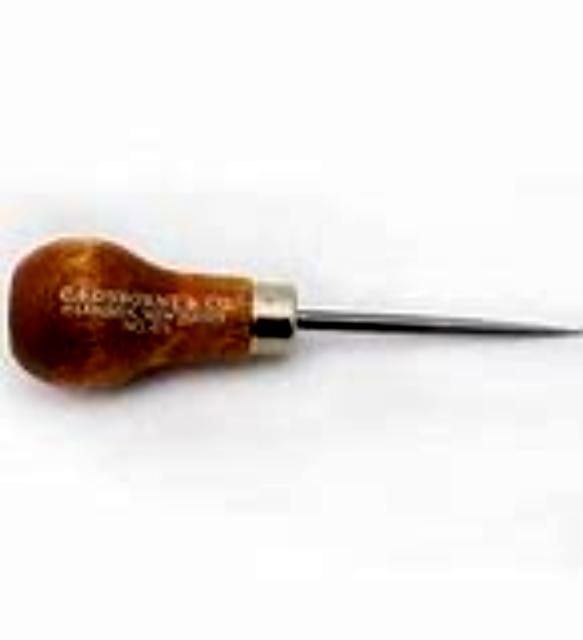ice pick: (8, 233, 583, 394)
